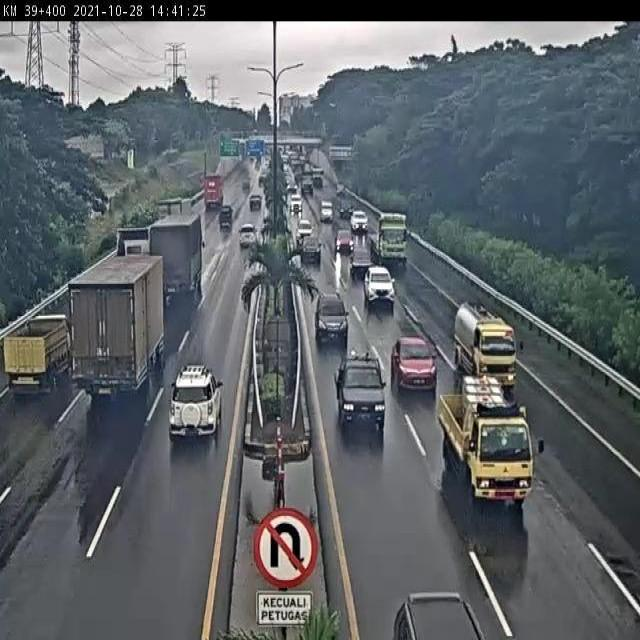big truck: (106, 225, 152, 279)
car: (169, 364, 223, 440), (335, 353, 386, 432), (391, 336, 438, 395), (313, 293, 349, 344), (363, 267, 395, 308), (349, 246, 374, 278), (239, 224, 257, 247)
mid truck: (67, 253, 167, 392), (148, 213, 205, 295), (155, 196, 193, 237)
small truck: (2, 314, 70, 394)
truck-m-: (438, 377, 539, 507), (454, 301, 519, 392)
